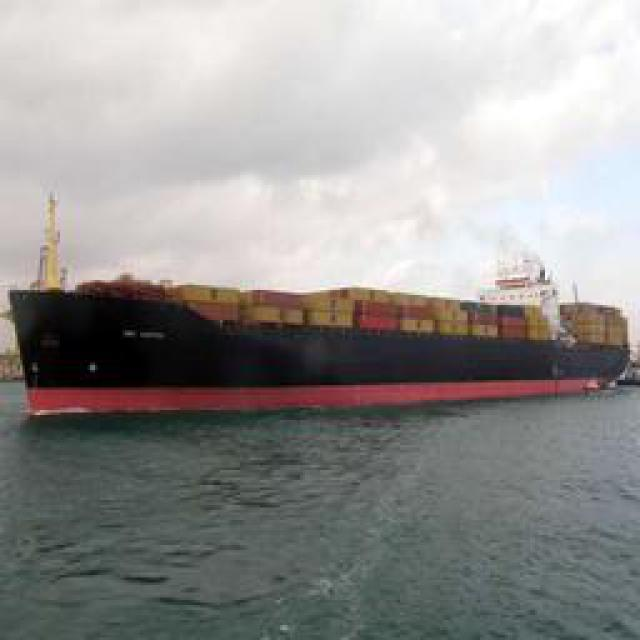Ship: (6, 280, 634, 415)
